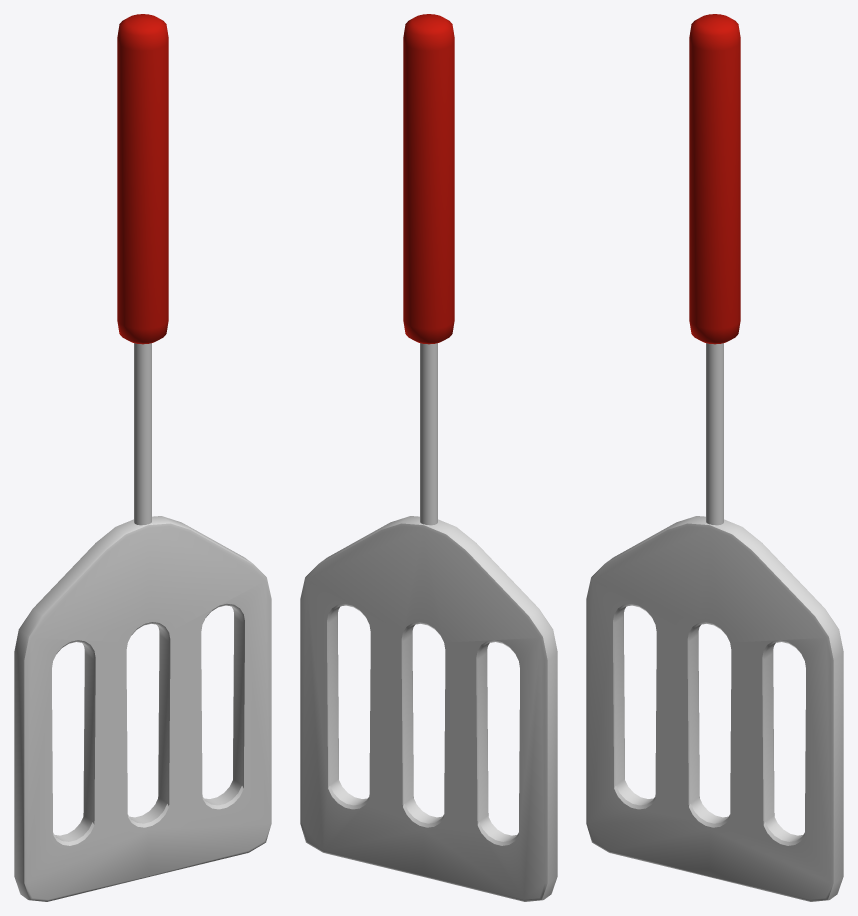
File: Tool_Spatula.fbx
3 views of the same model, side by side, from view 1: azimuth 30°, elevation 25°; view 2: azimuth 150°, elevation 25°; view 3: azimuth 330°, elevation 25° (orthographic).
Visible parts, largest first — view 1: Tool_Common_Spatula; view 2: Tool_Common_Spatula; view 3: Tool_Common_Spatula.
Boxes of the visible parts, x1,y1,x2,y2 form: Tool_Common_Spatula: [14, 14, 271, 901]; Tool_Common_Spatula: [300, 14, 557, 901]; Tool_Common_Spatula: [586, 14, 843, 901].
Bounding box in the file's own units: 12.98 × 42.61 × 2.32.
